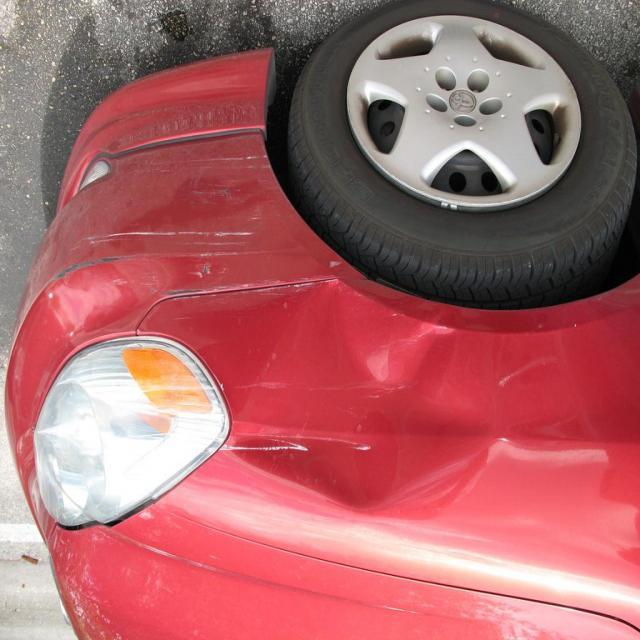dent: (204, 286, 500, 510)
